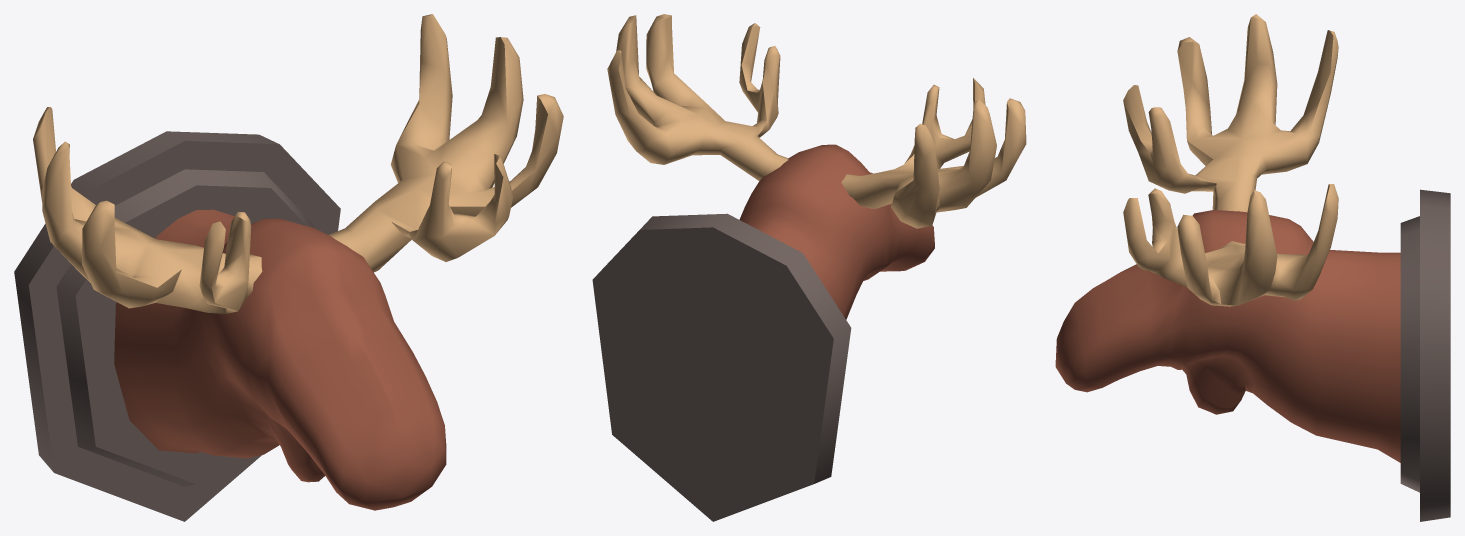
The model's file is moosehead.fbx.
The picture shows the model from 3 angles, left to right: view 1: azimuth 30°, elevation 25°; view 2: azimuth 150°, elevation 25°; view 3: azimuth 270°, elevation 25°; orthographic projection. The views are drawn at different scales.
Parts seen in each view (by area): view 1: moosehead; view 2: moosehead; view 3: moosehead.
Boxes of the visible parts, left/top/right/bottom form: moosehead: left=14, top=14, right=563, bottom=521; moosehead: left=592, top=14, right=1026, bottom=521; moosehead: left=1055, top=14, right=1450, bottom=521.
Bounding box in the file's own units: 1.77 × 1.79 × 1.53.
